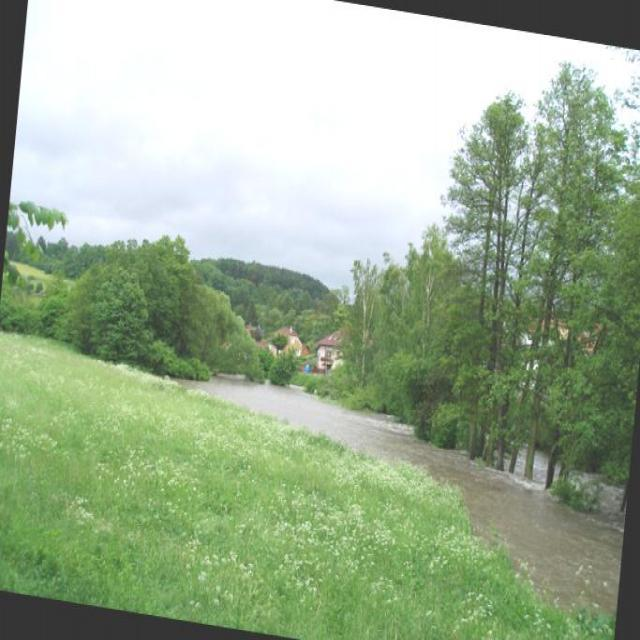flood: (152, 358, 632, 623)
